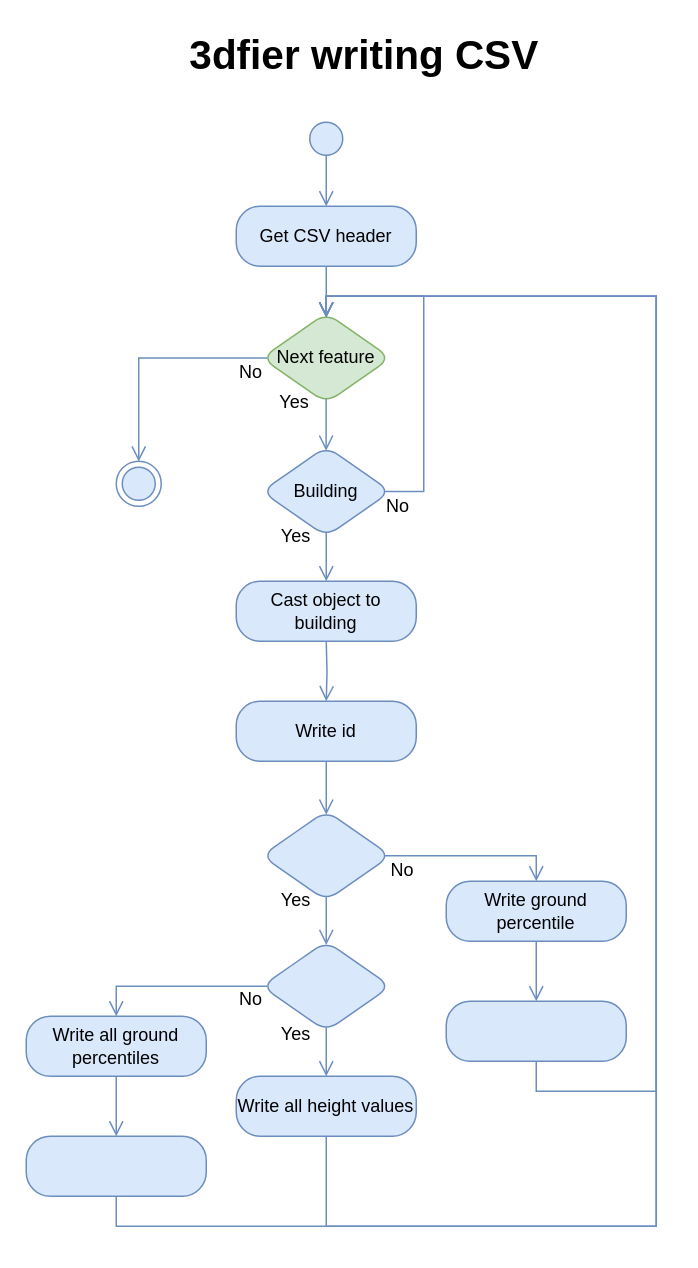
The diagram is 698 pixels wide and 1268 high, and some of its shapes have lost their labels. Here are the shapes that lost their labels. From the top down, the centre of each, then its label:
[325,855]: Multiple heights
[325,985]: All heights
[535,1030]: Write roof percentile
[115,1165]: Write all roof percentiles
